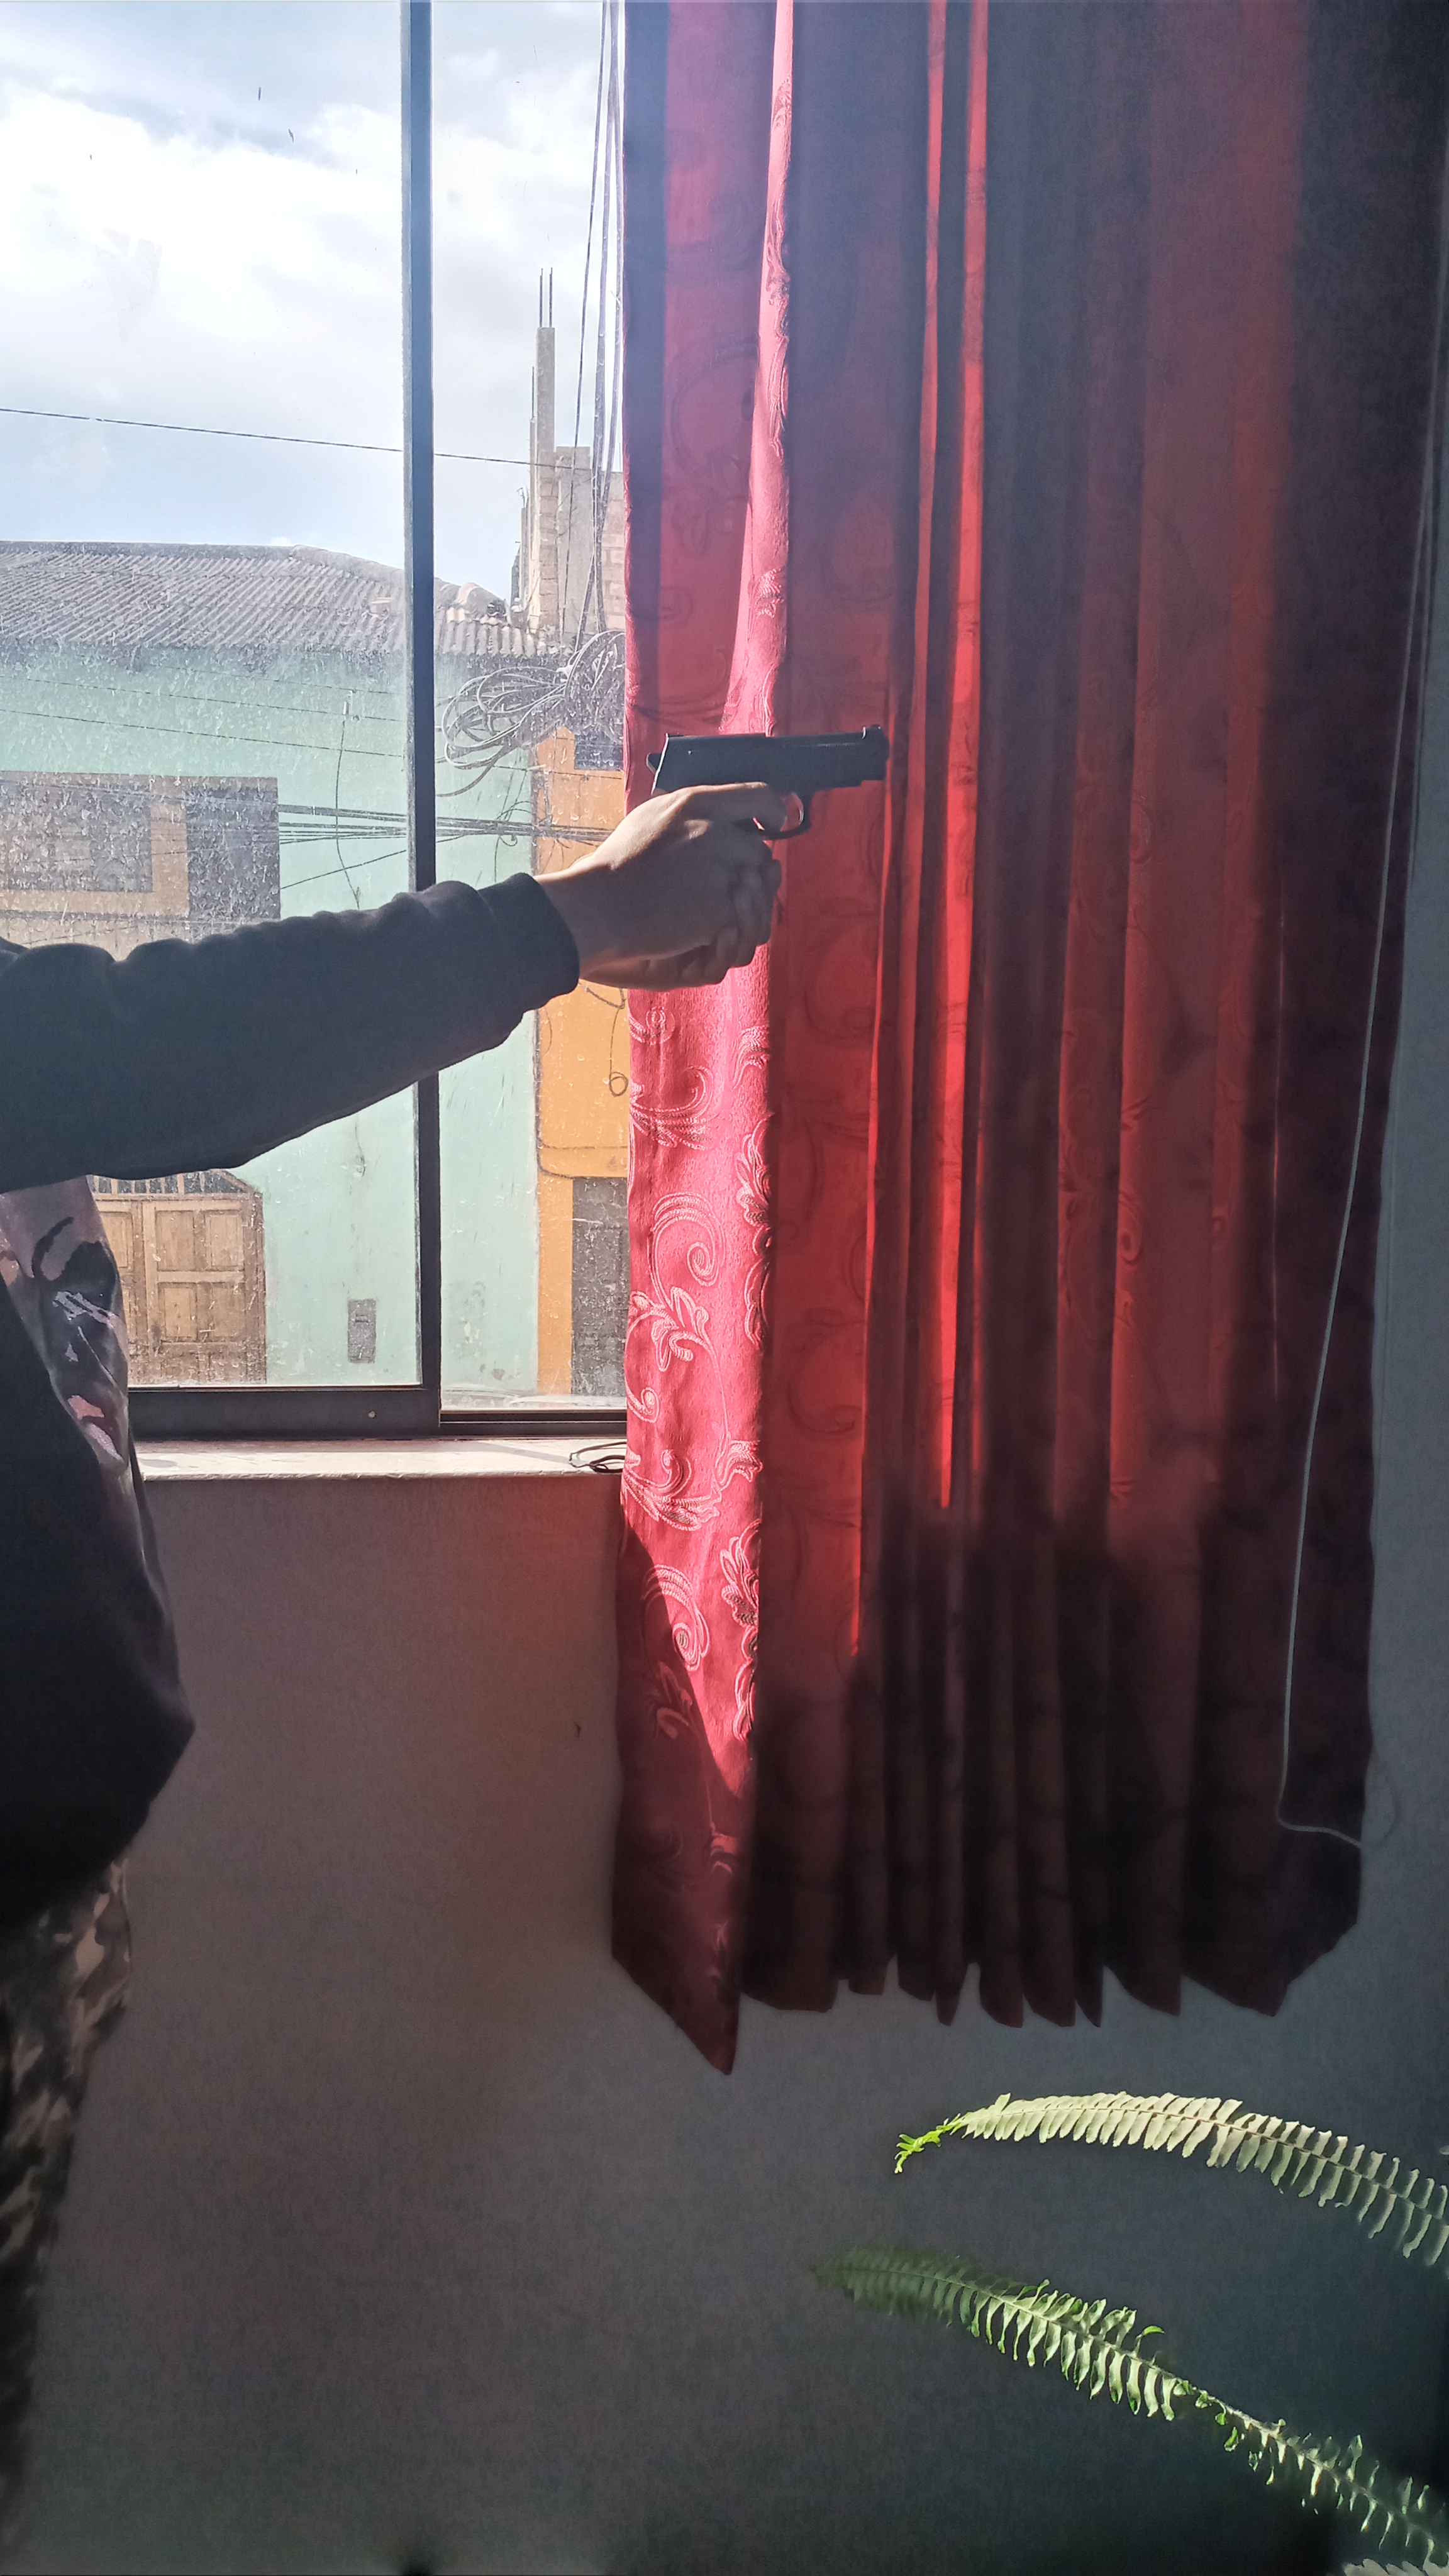Arma: (619, 722, 911, 812)
